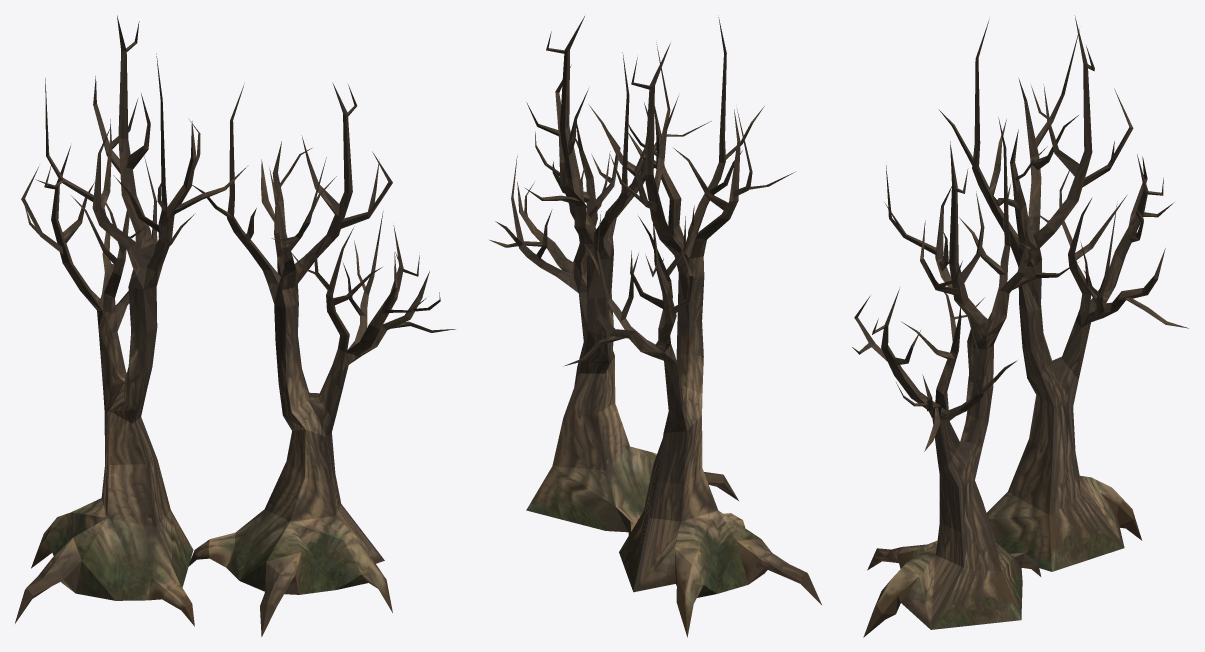
The model's file is plants_tall_tree_trunks214.fbx.
3 renders of one model, left to right at view 1: azimuth 30°, elevation 25°; view 2: azimuth 150°, elevation 25°; view 3: azimuth 270°, elevation 25°, orthographic. The views are drawn at different scales.
Visible parts, largest first — view 1: obj0.165; view 2: obj0.165; view 3: obj0.165.
Boxes of the visible parts, left/top/right/bottom form: obj0.165: left=15, top=15, right=455, bottom=637; obj0.165: left=489, top=16, right=821, bottom=637; obj0.165: left=852, top=15, right=1189, bottom=637.
Bounding box in the file's own units: 7.61 × 10.53 × 5.88.
